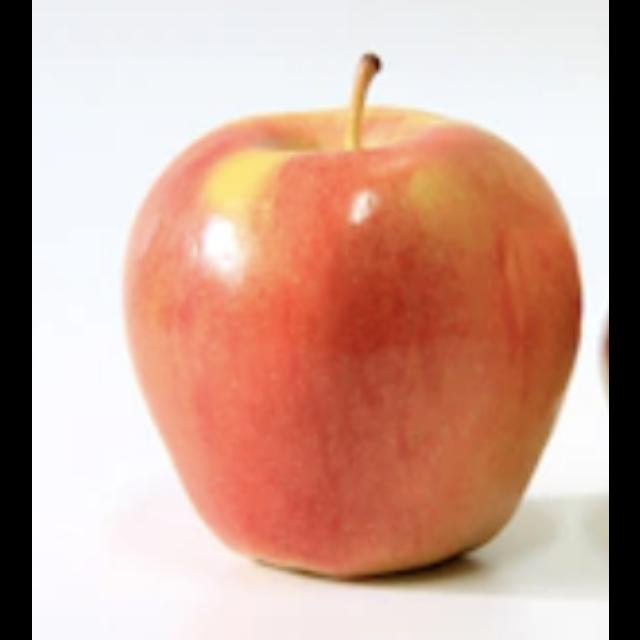Apel Segar: (108, 91, 594, 598)
